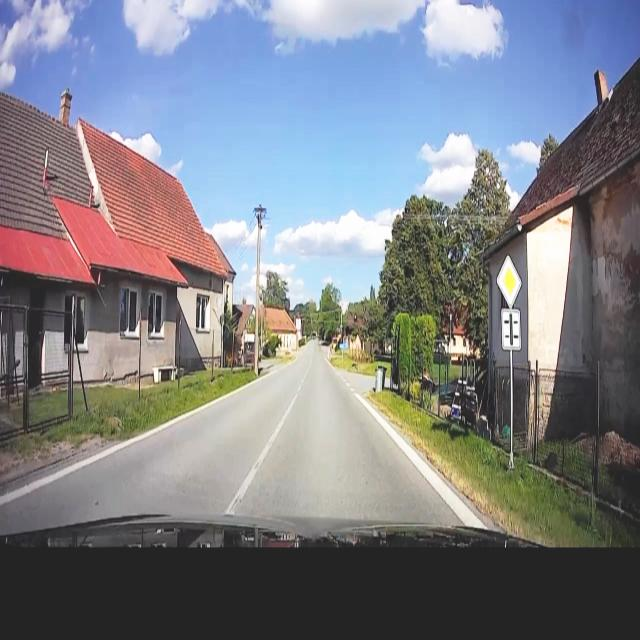Priority road: (498, 250, 523, 308)
